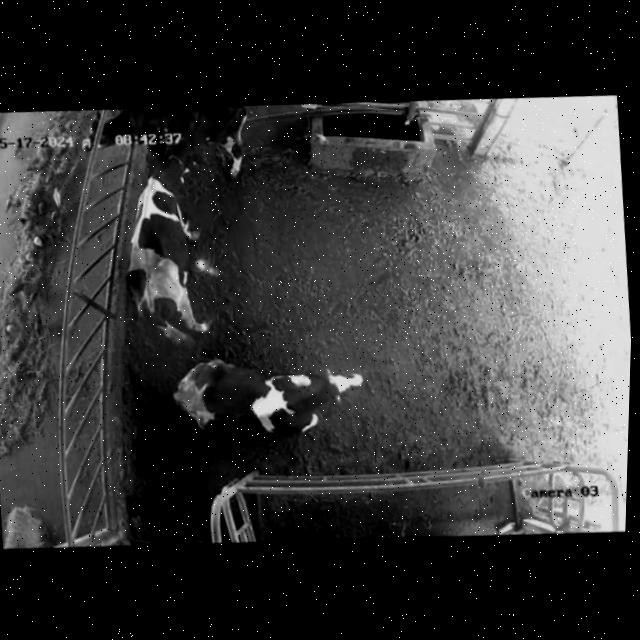eat: (37, 102, 167, 164)
lay: (158, 331, 374, 460)
stand: (106, 140, 215, 358)
